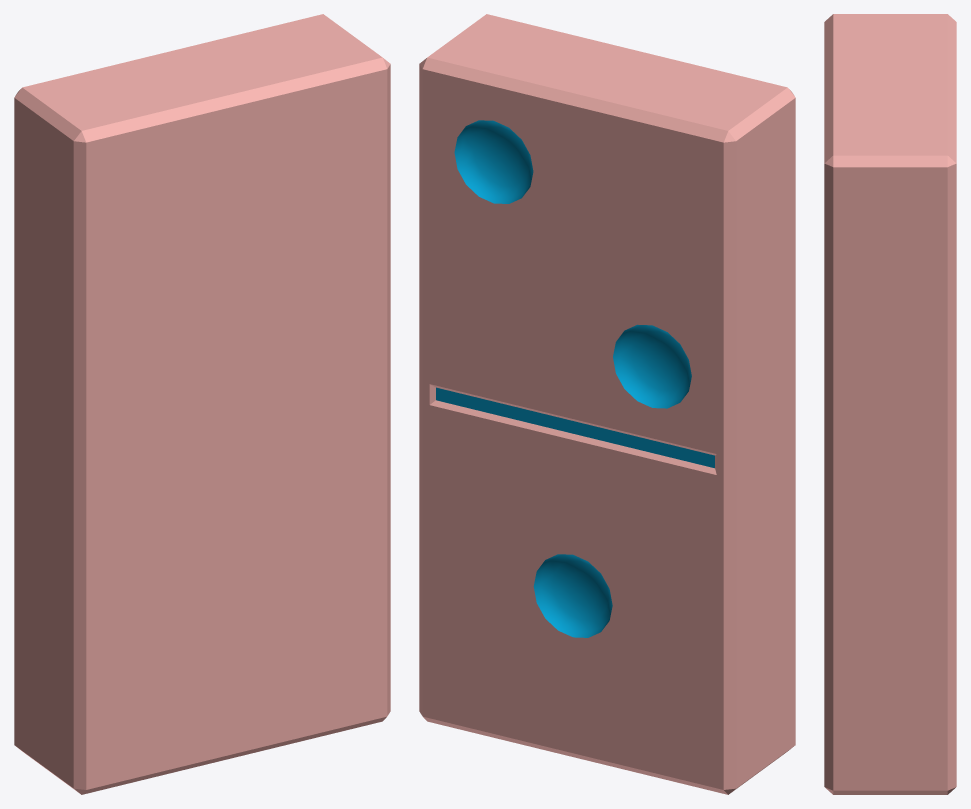
File: DominoBlock.fbx
3 renders of one model, left to right at view 1: azimuth 30°, elevation 25°; view 2: azimuth 150°, elevation 25°; view 3: azimuth 270°, elevation 25°, orthographic. The views are drawn at different scales.
Parts seen in each view (by area): view 1: DominoBlock; view 2: DominoBlock; view 3: DominoBlock.
Part boxes in pixels (box(x1,y1,x2,y2)): DominoBlock: box(14, 14, 390, 794); DominoBlock: box(419, 14, 795, 794); DominoBlock: box(824, 14, 956, 794).
Size of the model in its own units: 40 by 80.08 by 15.
